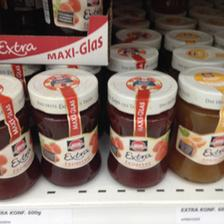Marmelade: (26, 66, 102, 186), (106, 68, 176, 188), (170, 66, 222, 182), (1, 73, 40, 199)
